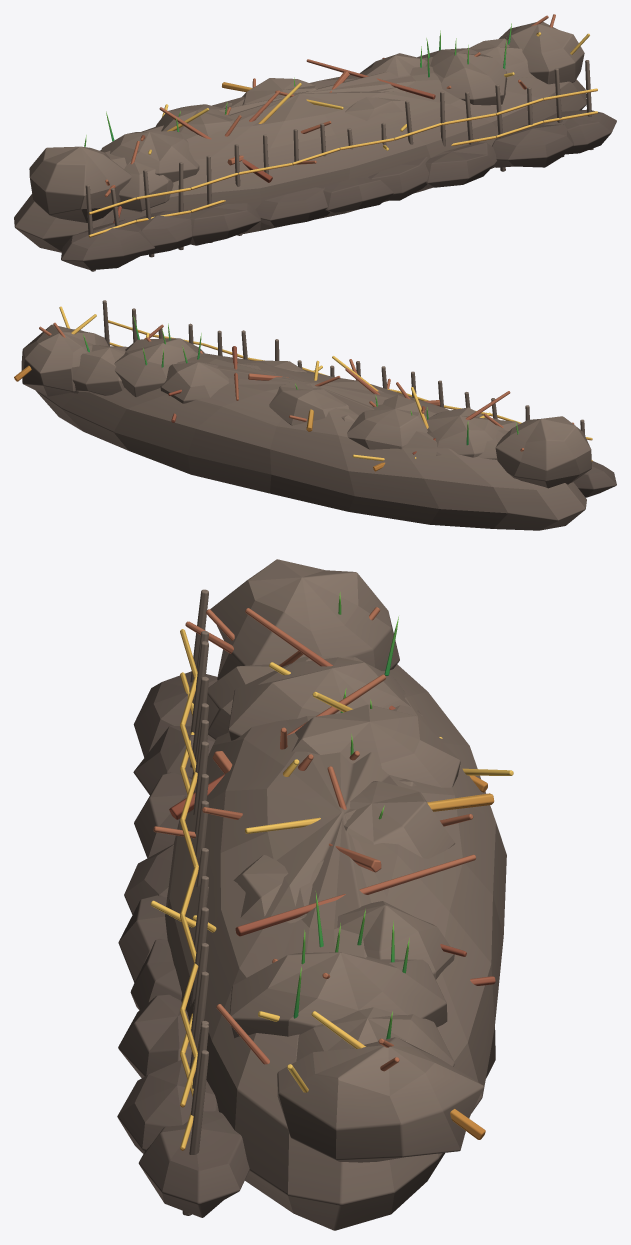
Rendered from mud_dam.glb.
3 views of the same model, one above another, from view 1: azimuth 30°, elevation 25°; view 2: azimuth 150°, elevation 25°; view 3: azimuth 270°, elevation 25° (orthographic). The views are drawn at different scales.
Visible parts, largest first — view 1: mud_dam; view 2: mud_dam; view 3: mud_dam.
Part boxes in pixels (x1,y1,x2,y2): mud_dam: (14,14,616,271); mud_dam: (14,300,616,530); mud_dam: (117,559,513,1230).
Bounding box in the file's own units: 10.58 × 1.94 × 3.32.
1 material, 1 textured.
